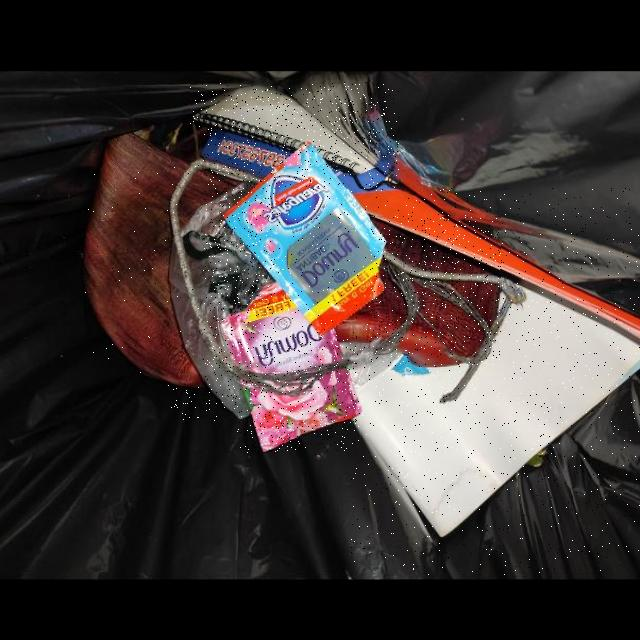biowaste: (83, 130, 204, 387), (371, 216, 501, 367), (335, 266, 408, 342)
paper: (352, 188, 640, 574), (190, 82, 399, 188)
plastic: (170, 181, 274, 421)
wrapper: (225, 137, 388, 335), (231, 281, 361, 453)
